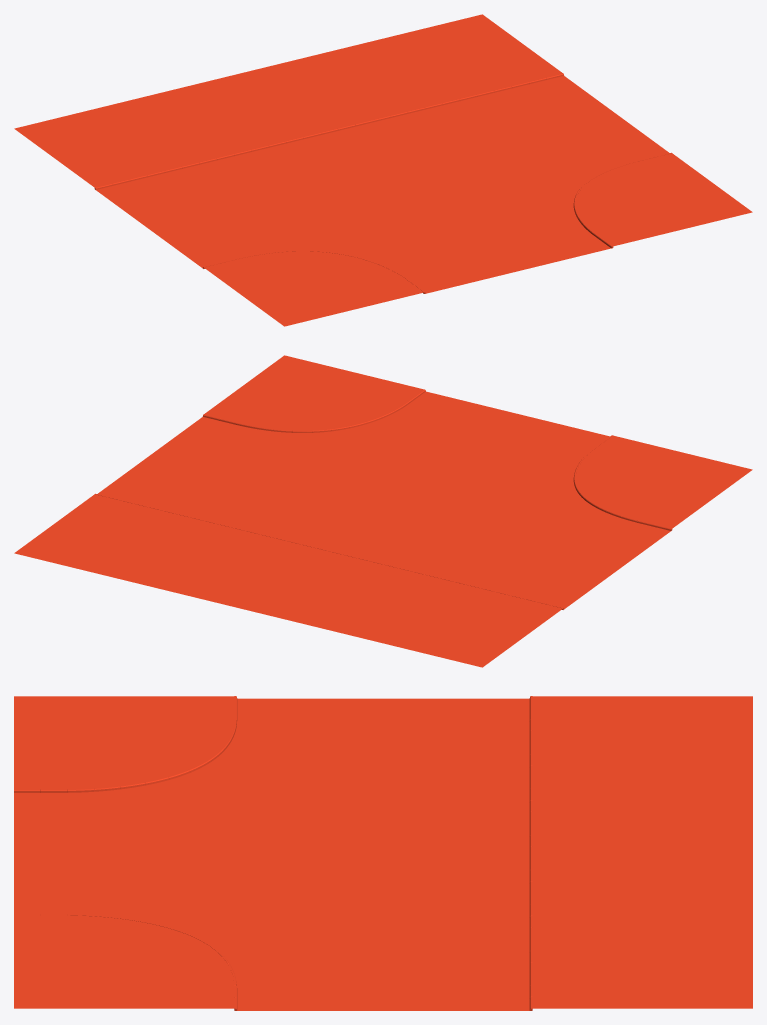
The model's file is SM_MainroadToParking_30x30_City.fbx.
3 renders of one model, top to bottom at view 1: azimuth 30°, elevation 25°; view 2: azimuth 150°, elevation 25°; view 3: azimuth 270°, elevation 25°, orthographic. The views are drawn at different scales.
Parts seen in each view (by area): view 1: SM_MainroadToParking_30x30_City; view 2: SM_MainroadToParking_30x30_City; view 3: SM_MainroadToParking_30x30_City.
Part boxes in pixels (left/top/right/bottom): SM_MainroadToParking_30x30_City: left=14, top=14, right=752, bottom=326; SM_MainroadToParking_30x30_City: left=14, top=355, right=752, bottom=667; SM_MainroadToParking_30x30_City: left=14, top=696, right=752, bottom=1010.
Bounding box in the file's own units: 30 × 0.1084 × 30.
